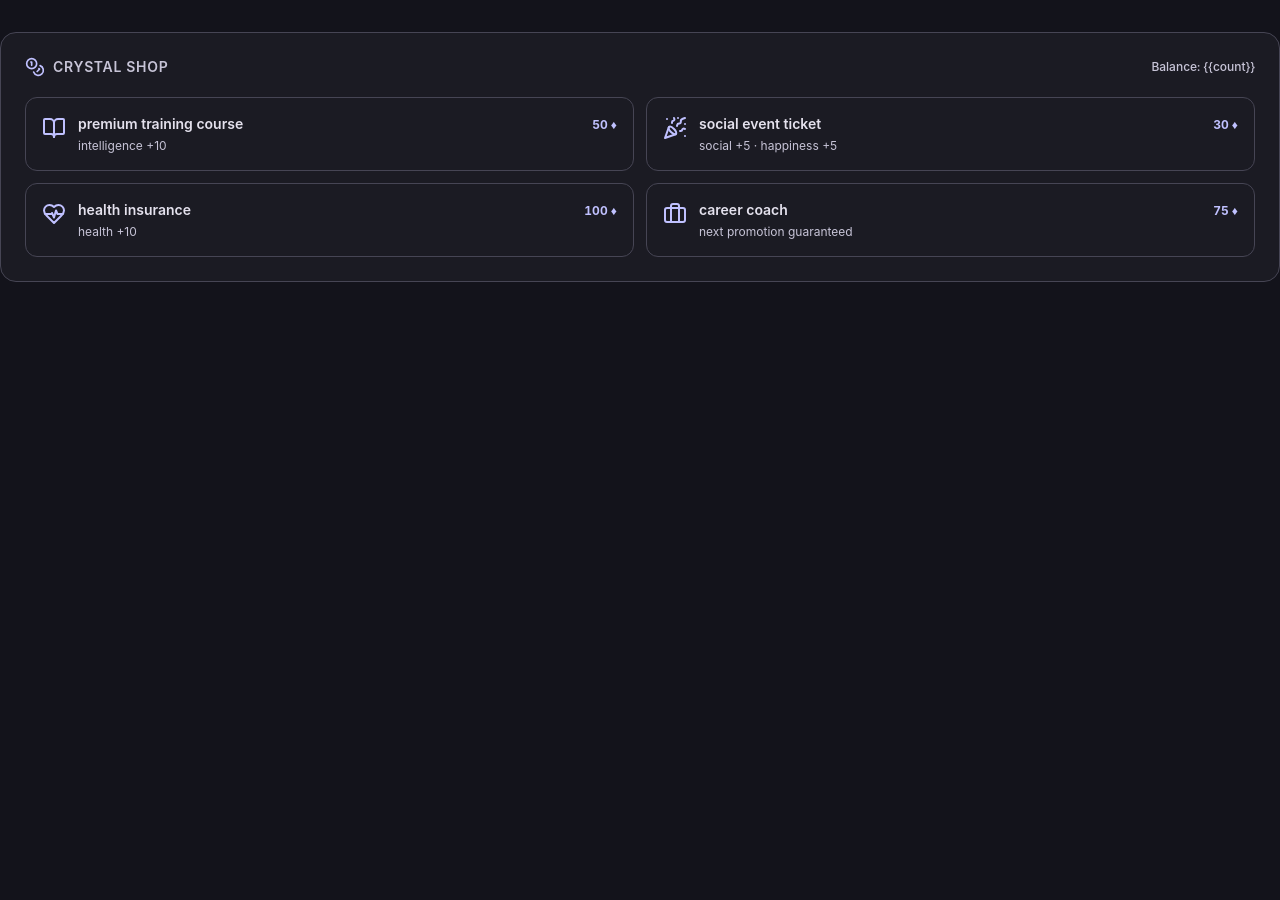
Test case: CrystalShop › clicking an item opens confirm dialog
Click the button "premium training course 50 ♦ intelligence +10": [161, 124] box 25,97 -> 634,171
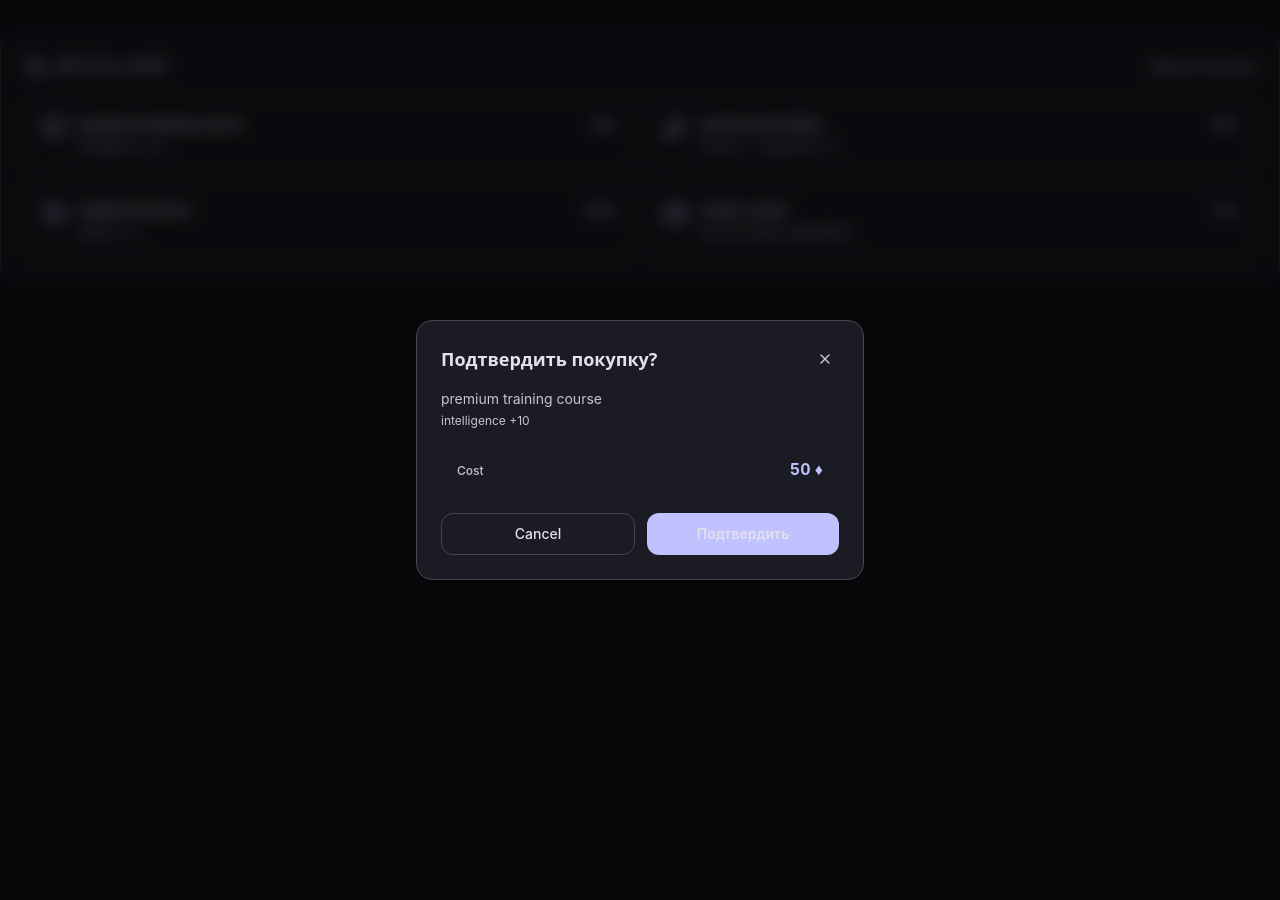
Check: the dialog is shown, box 416,320 -> 864,580
